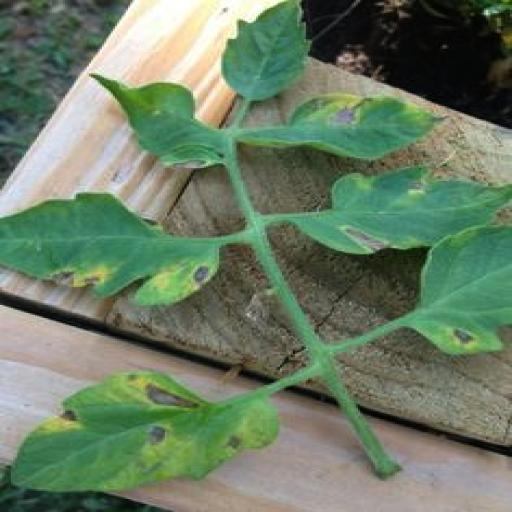disease_tomato: (20, 370, 276, 492), (0, 194, 228, 306), (284, 164, 512, 256), (250, 96, 456, 160)
